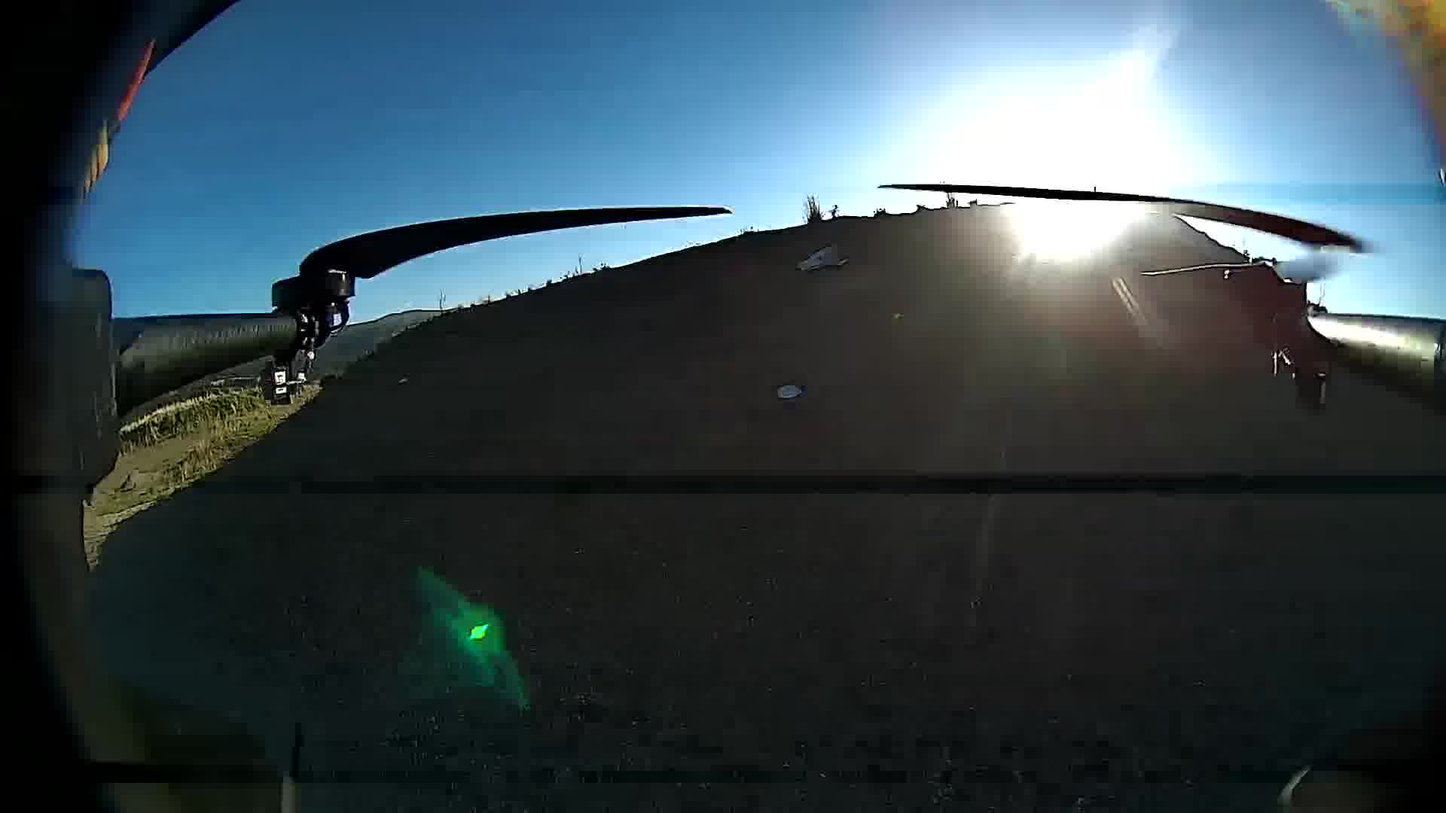Target: (775, 382, 804, 401)
